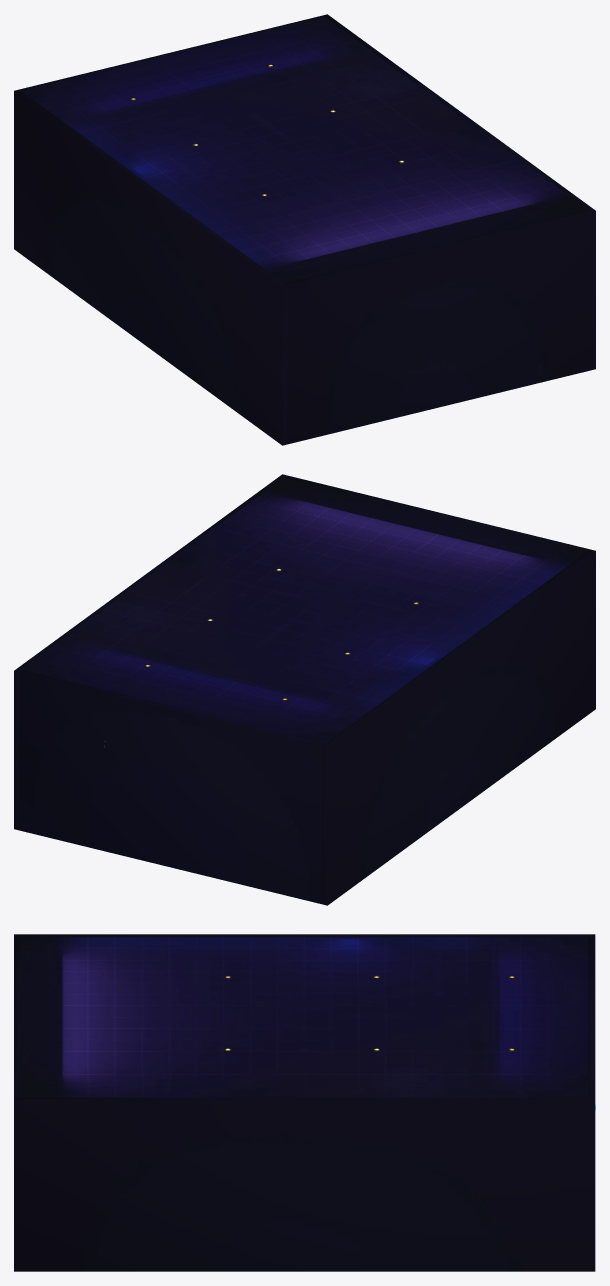
The model's file is cinema.glb.
The picture shows the model from 3 angles, top to bottom: view 1: azimuth 30°, elevation 25°; view 2: azimuth 150°, elevation 25°; view 3: azimuth 270°, elevation 25°; orthographic projection. The views are drawn at different scales.
Visible parts, largest first — view 1: BAKED_shell; view 2: BAKED_shell; view 3: BAKED_shell.
Boxes of the visible parts, x1,y1,x2,y2 form: BAKED_shell: (14,14,595,445); BAKED_shell: (14,474,595,905); BAKED_shell: (14,934,595,1271).
Size of the model in its own units: 8.7 by 4.2 by 12.92.
18 materials, 7 textured.
